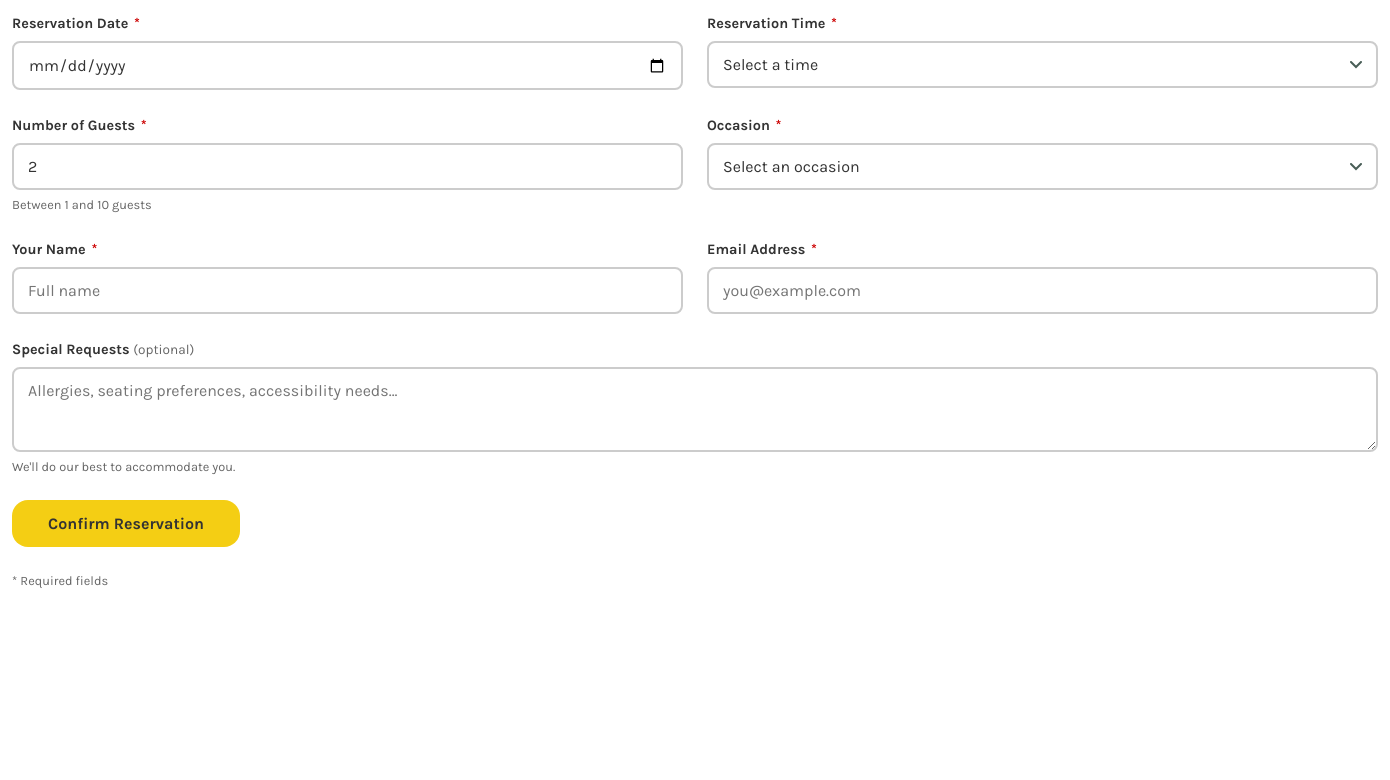
Scenario: BookingForm – validation on submit › shows date error when date is empty
Click the button "Confirm Reservation" at (126, 524), box left=12, top=500, right=240, bottom=547
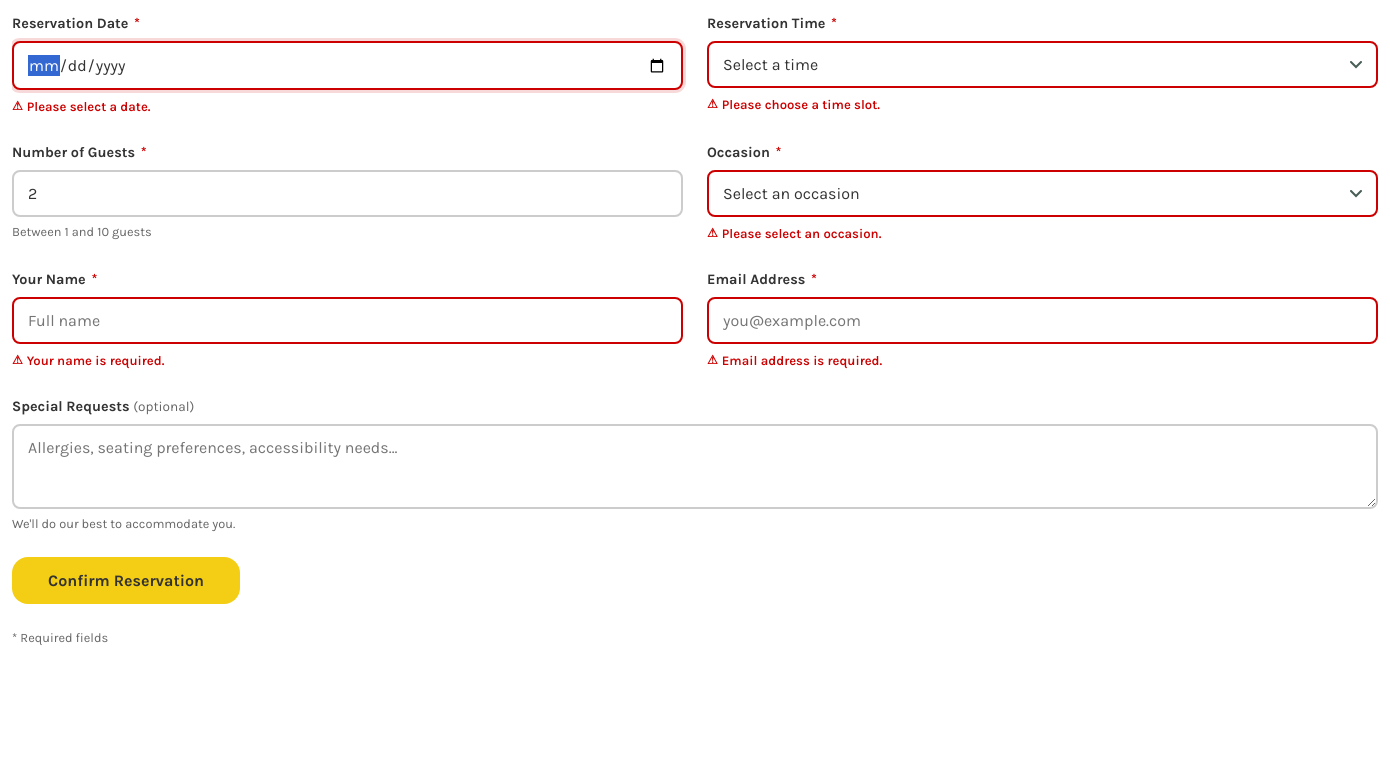
Expected: the text "Please select a date." is shown, left=27, top=99, right=151, bottom=114
